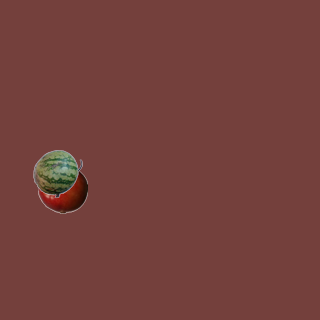Apple Braeburn: (37, 163, 87, 213)
Watermelon: (32, 148, 82, 198)
